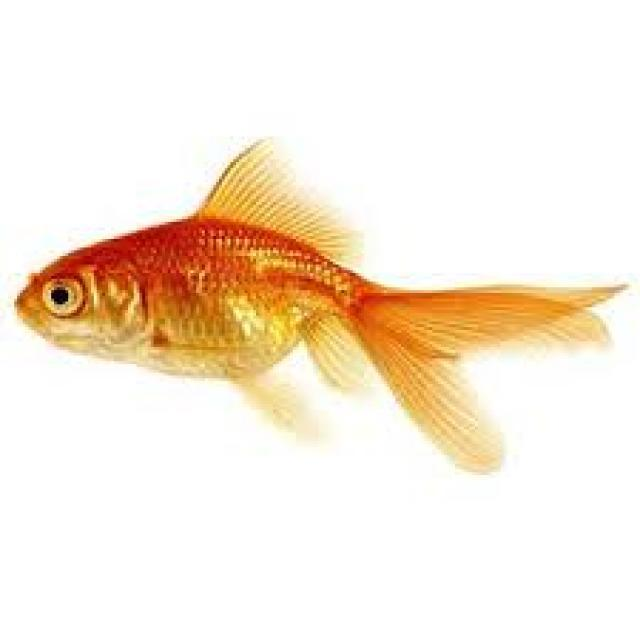goldfish: (17, 159, 578, 477)
